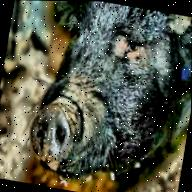boar: (14, 0, 192, 192)
